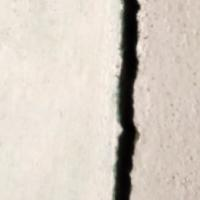crack: (82, 0, 148, 199)
